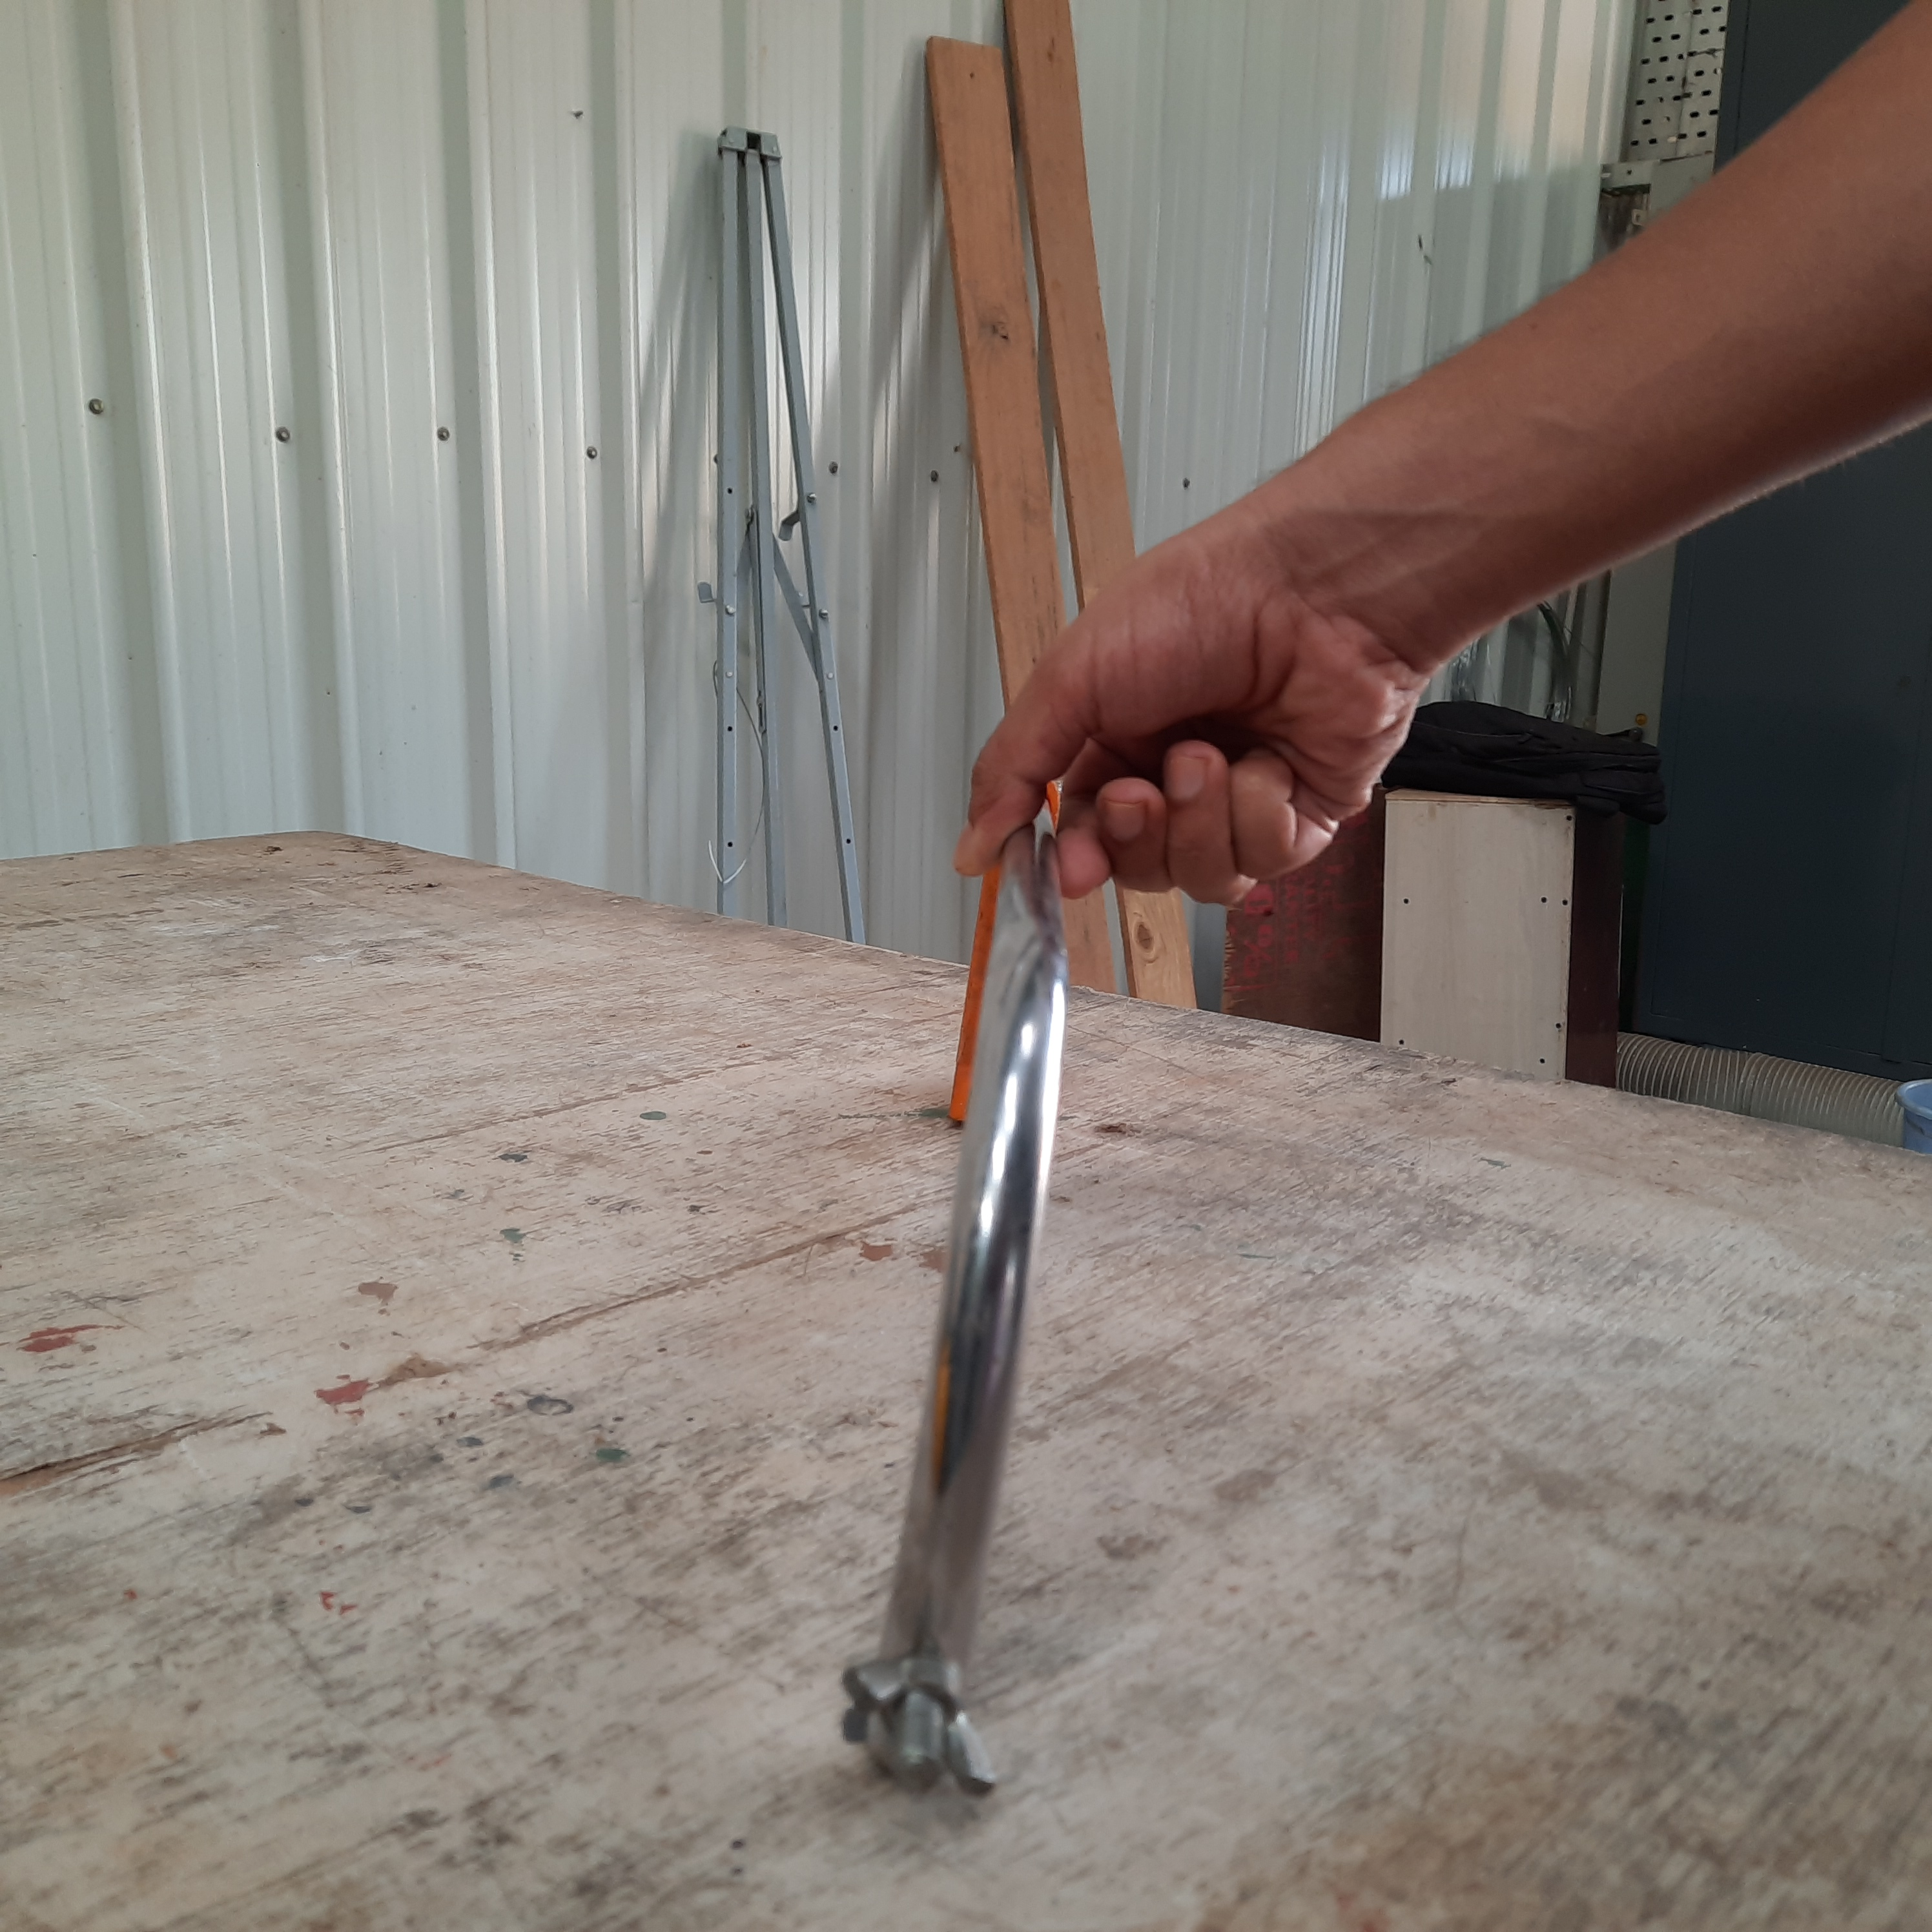Hexaframe: (810, 743, 1177, 1826)
